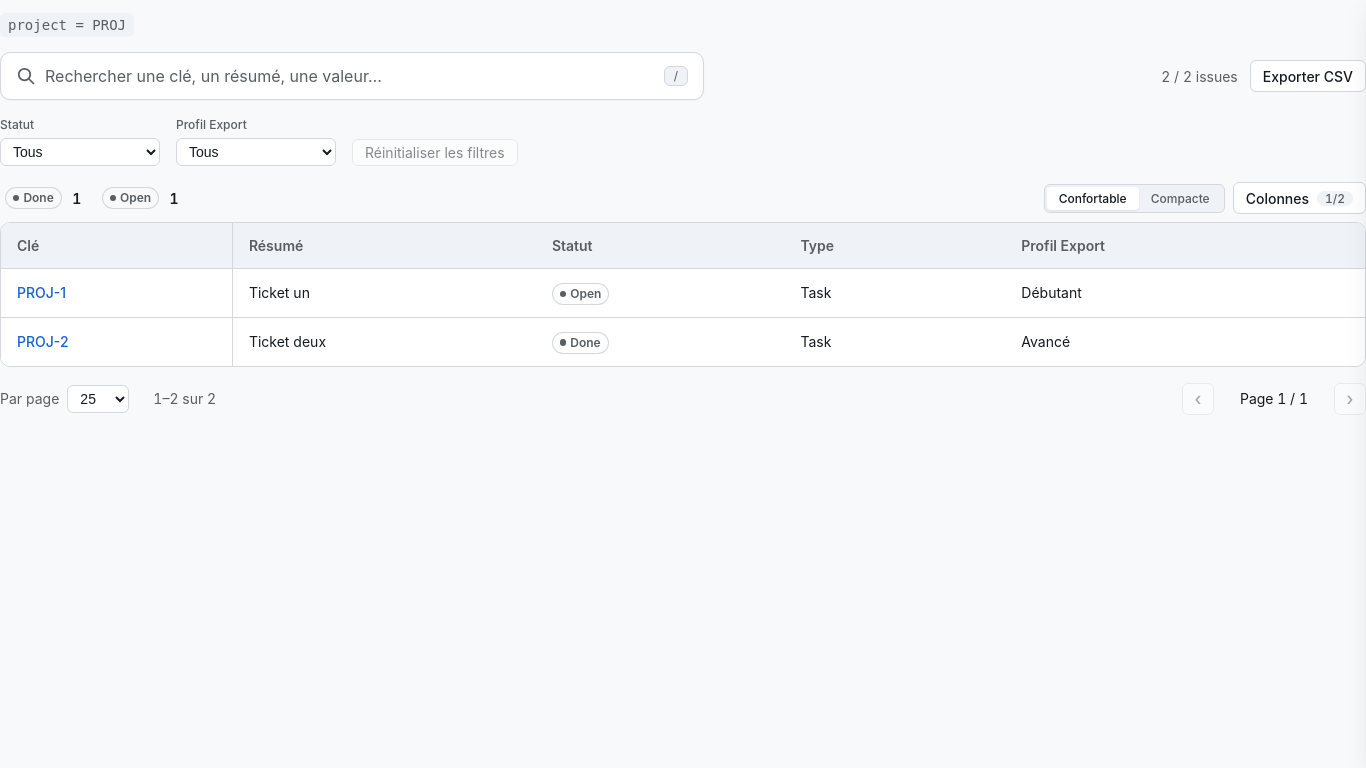
IssueList › lot 3: shareable URL, filter chips, empty filter, status summary, density, highlight, layout › shows active filters as chips that remove their filter in one click
The image size is (1366, 768).
Select "Done" in the dropdown labelled "Statut" at (80, 152), box [0,138,160,166]
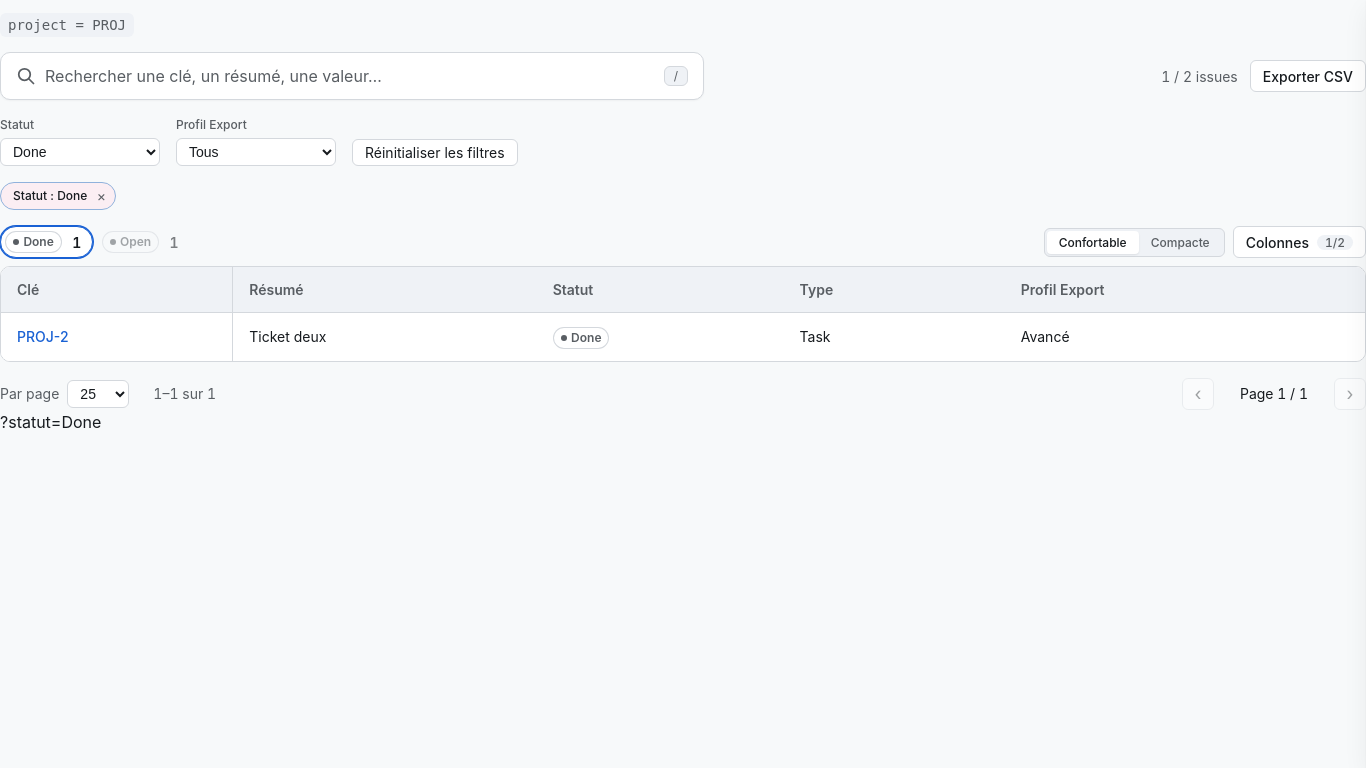
Select "Avancé" in the dropdown labelled "Profil Export" at (256, 152), box [176,138,336,166]
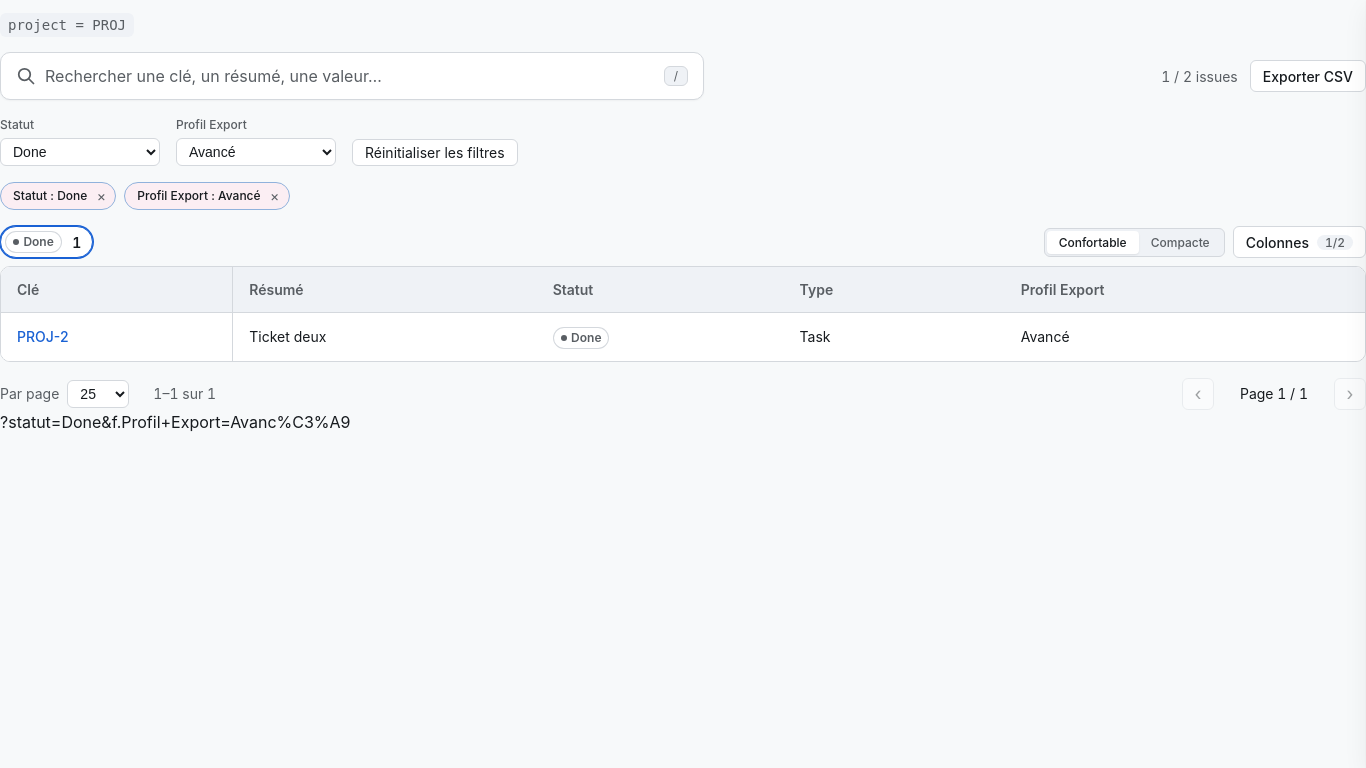
Click the button named "Retirer le filtre Statut : Done".
click(101, 196)  # box [91,186,111,206]
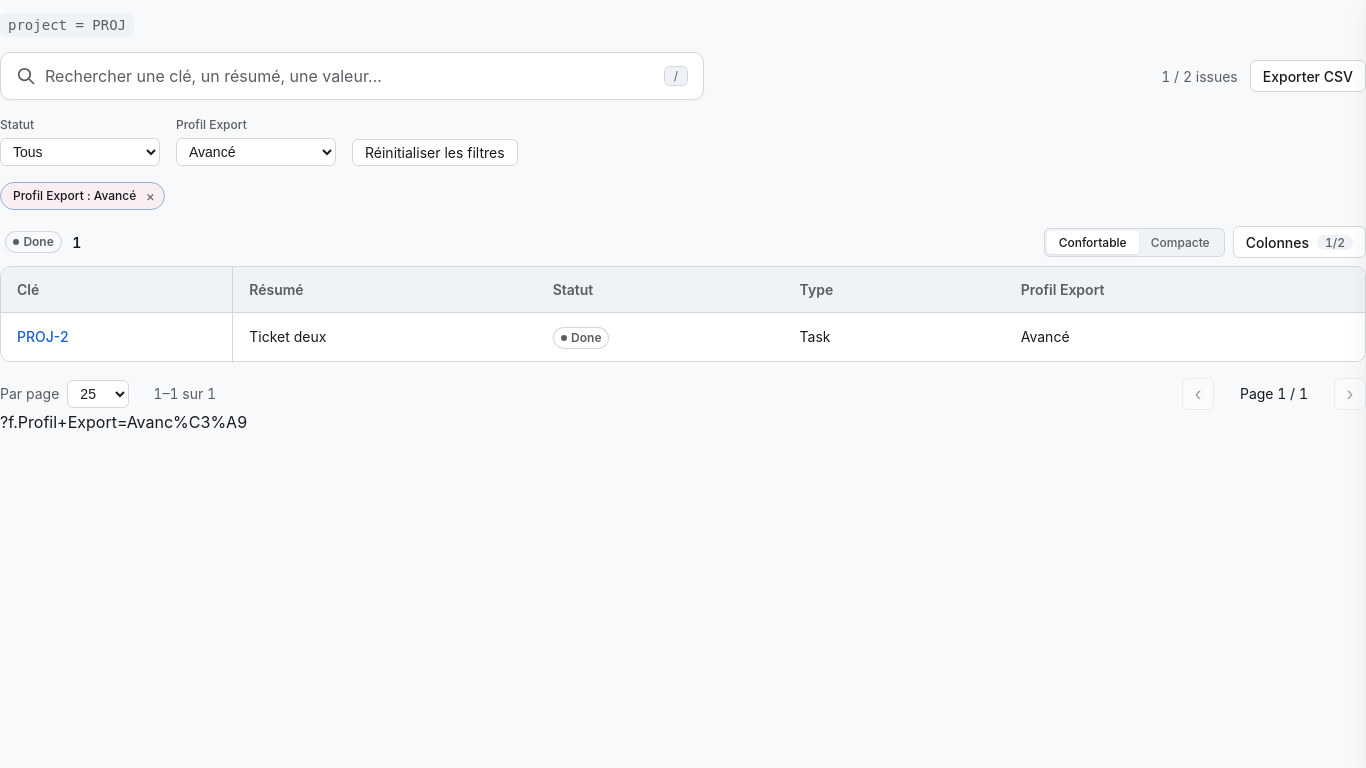
Now the number of list items is 1, box [0,182,165,210]
